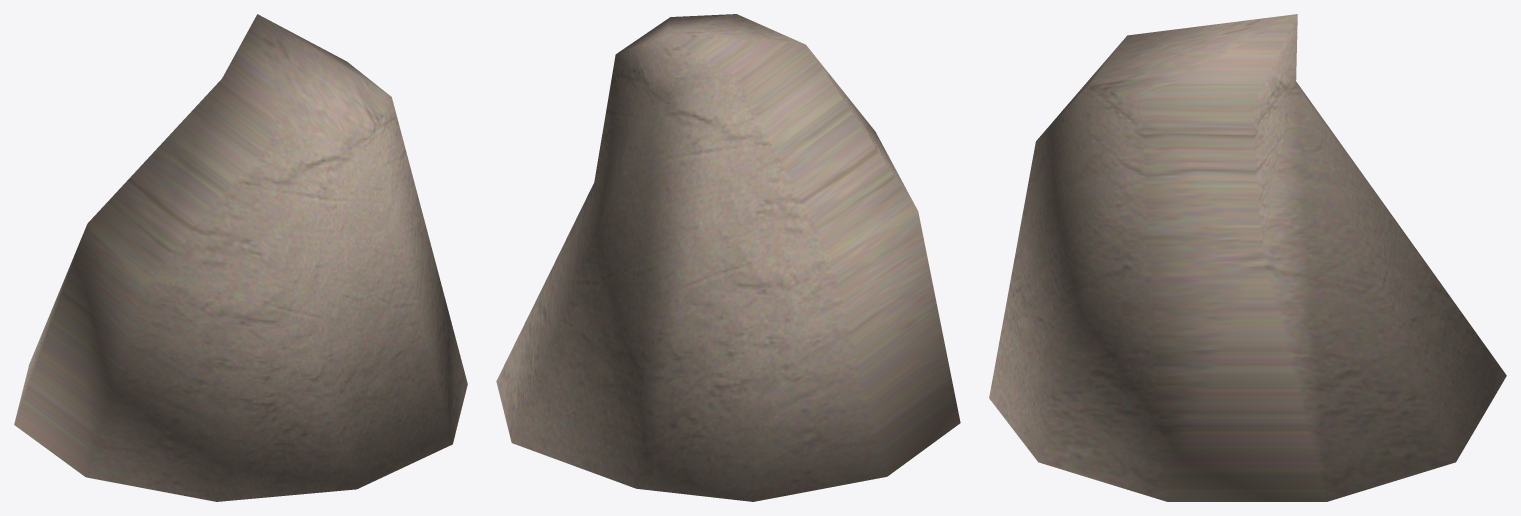
The model's file is rock1.glb.
3 renders of one model, left to right at view 1: azimuth 30°, elevation 25°; view 2: azimuth 150°, elevation 25°; view 3: azimuth 270°, elevation 25°, orthographic. The views are drawn at different scales.
Visible parts, largest first — view 1: Rock1; view 2: Rock1; view 3: Rock1.
Part boxes in pixels (bbox=[...]): Rock1: bbox=[14, 14, 467, 501]; Rock1: bbox=[496, 14, 960, 501]; Rock1: bbox=[989, 14, 1506, 501].
Size of the model in its own units: 1.9 by 1.73 by 2.01.
1 material, 1 textured.
